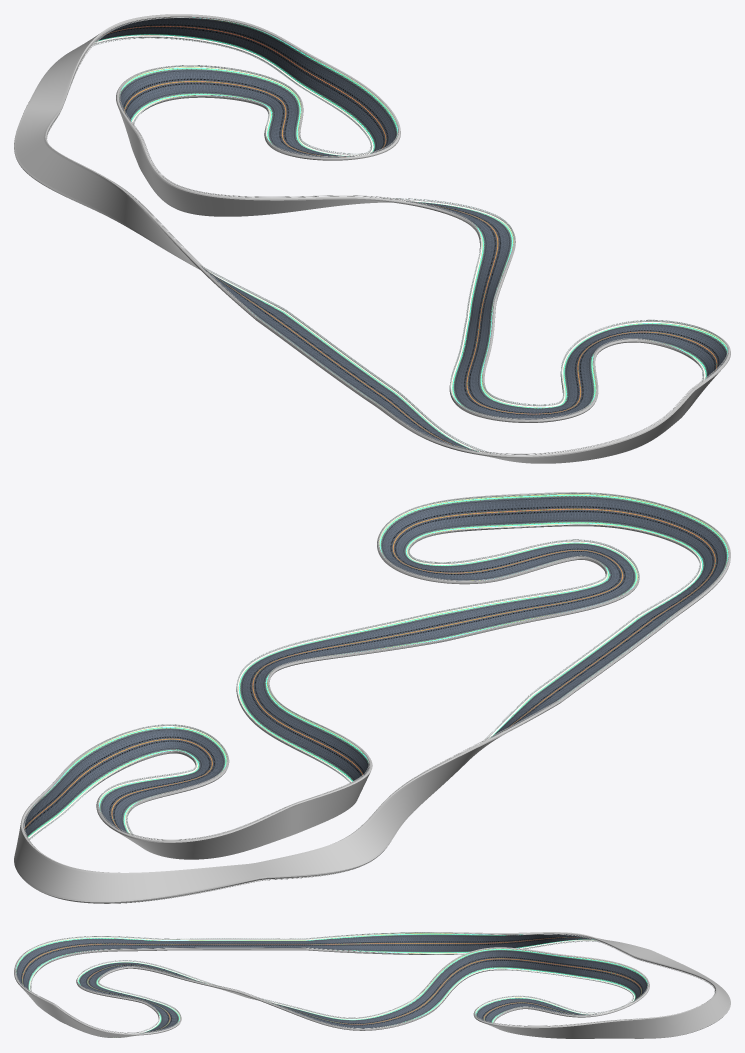
File: Cursa_Track.fbx
The picture shows the model from 3 angles, top to bottom: view 1: azimuth 30°, elevation 25°; view 2: azimuth 150°, elevation 25°; view 3: azimuth 270°, elevation 25°; orthographic projection. The views are drawn at different scales.
Parts seen in each view (by area): view 1: Track, Guard; view 2: Track, Guard; view 3: Track, Guard.
Boxes of the visible parts, x1,y1,x2,y2 form: Track: [95, 17, 727, 451]; Guard: [14, 14, 730, 463]; Track: [23, 494, 728, 837]; Guard: [14, 492, 730, 903]; Track: [16, 933, 647, 1033]; Guard: [14, 932, 730, 1038].
Size of the model in its own units: 245 by 22.95 by 710.
